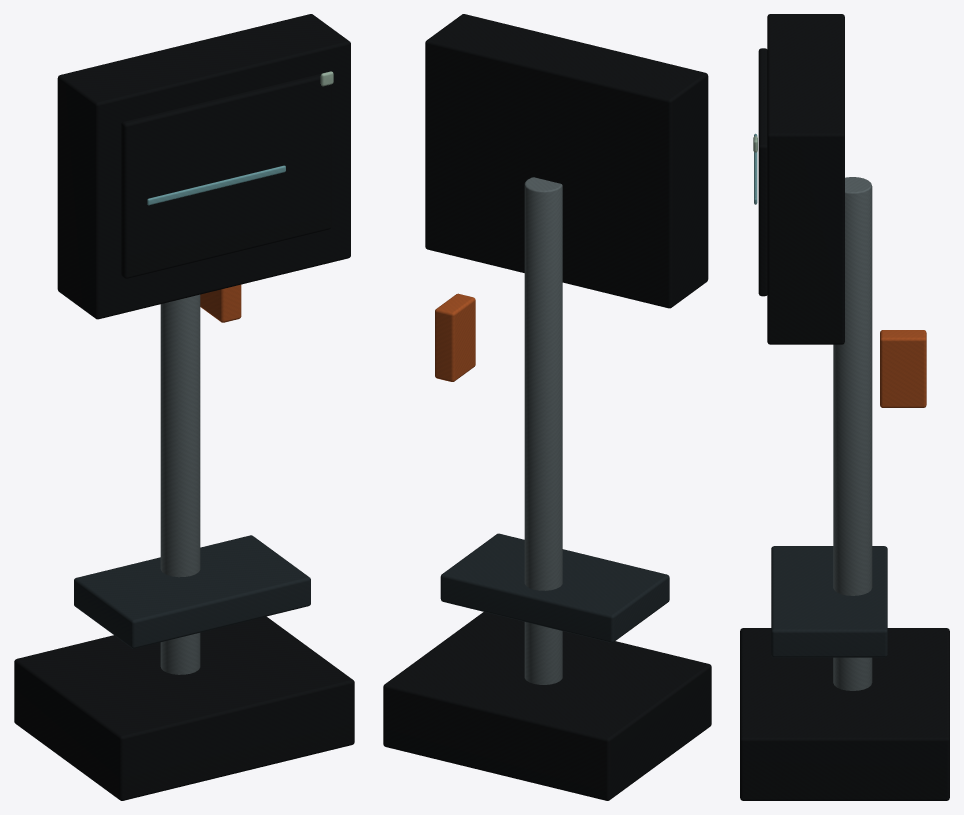
Rendered from MobileMedicalMonitor.fbx.
3 renders of one model, left to right at view 1: azimuth 30°, elevation 25°; view 2: azimuth 150°, elevation 25°; view 3: azimuth 270°, elevation 25°, orthographic. The views are drawn at different scales.
Visible parts, largest first — view 1: MobileMedicalMonitor_Mesh; view 2: MobileMedicalMonitor_Mesh; view 3: MobileMedicalMonitor_Mesh.
Part boxes in pixels (left/top/right/bottom): MobileMedicalMonitor_Mesh: left=14, top=14, right=354, bottom=800; MobileMedicalMonitor_Mesh: left=383, top=14, right=711, bottom=800; MobileMedicalMonitor_Mesh: left=740, top=14, right=949, bottom=800.
Size of the model in its own units: 74 by 191 by 54.
